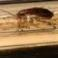cockroach: (16, 6, 54, 20)
